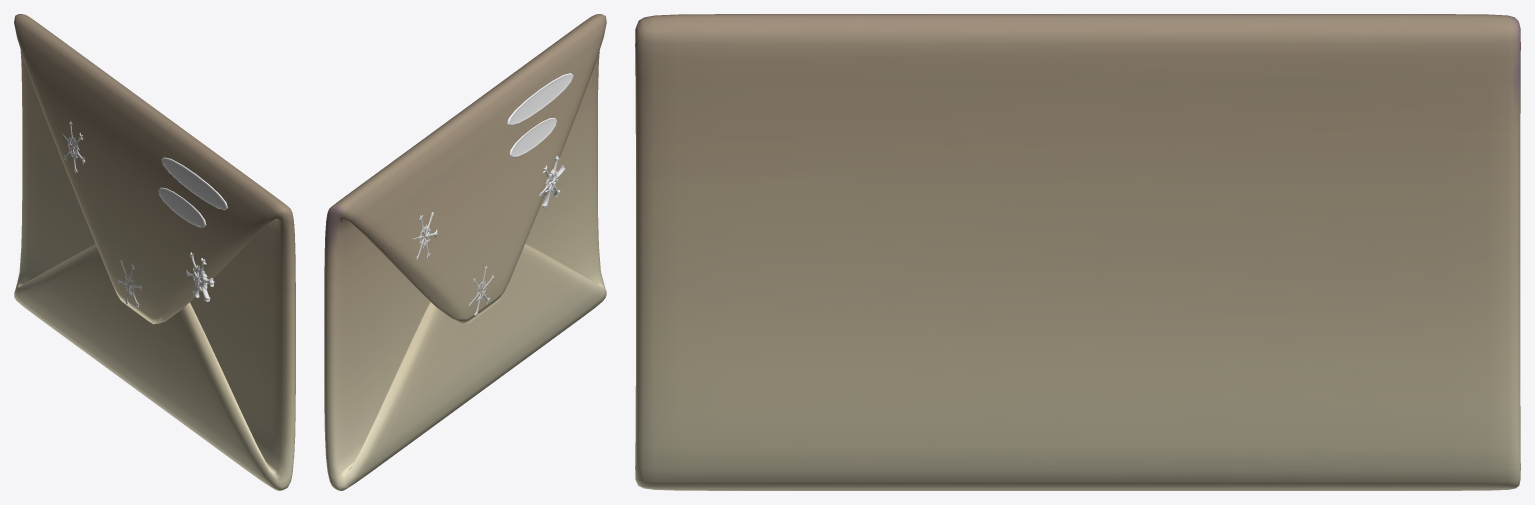
The model's file is weinachtsbriefgratex.fbx.
3 renders of one model, left to right at view 1: azimuth 30°, elevation 25°; view 2: azimuth 150°, elevation 25°; view 3: azimuth 270°, elevation 25°, orthographic. The views are drawn at different scales.
Visible parts, largest first — view 1: Cube; view 2: Cube; view 3: Cube.
Part boxes in pixels (<box>): Cube: <box>14,14,295,490</box>; Cube: <box>324,14,606,490</box>; Cube: <box>635,14,1520,490</box>.
Bounding box in the file's own units: 11.64 × 92.85 × 157.
21 materials, 1 textured.
